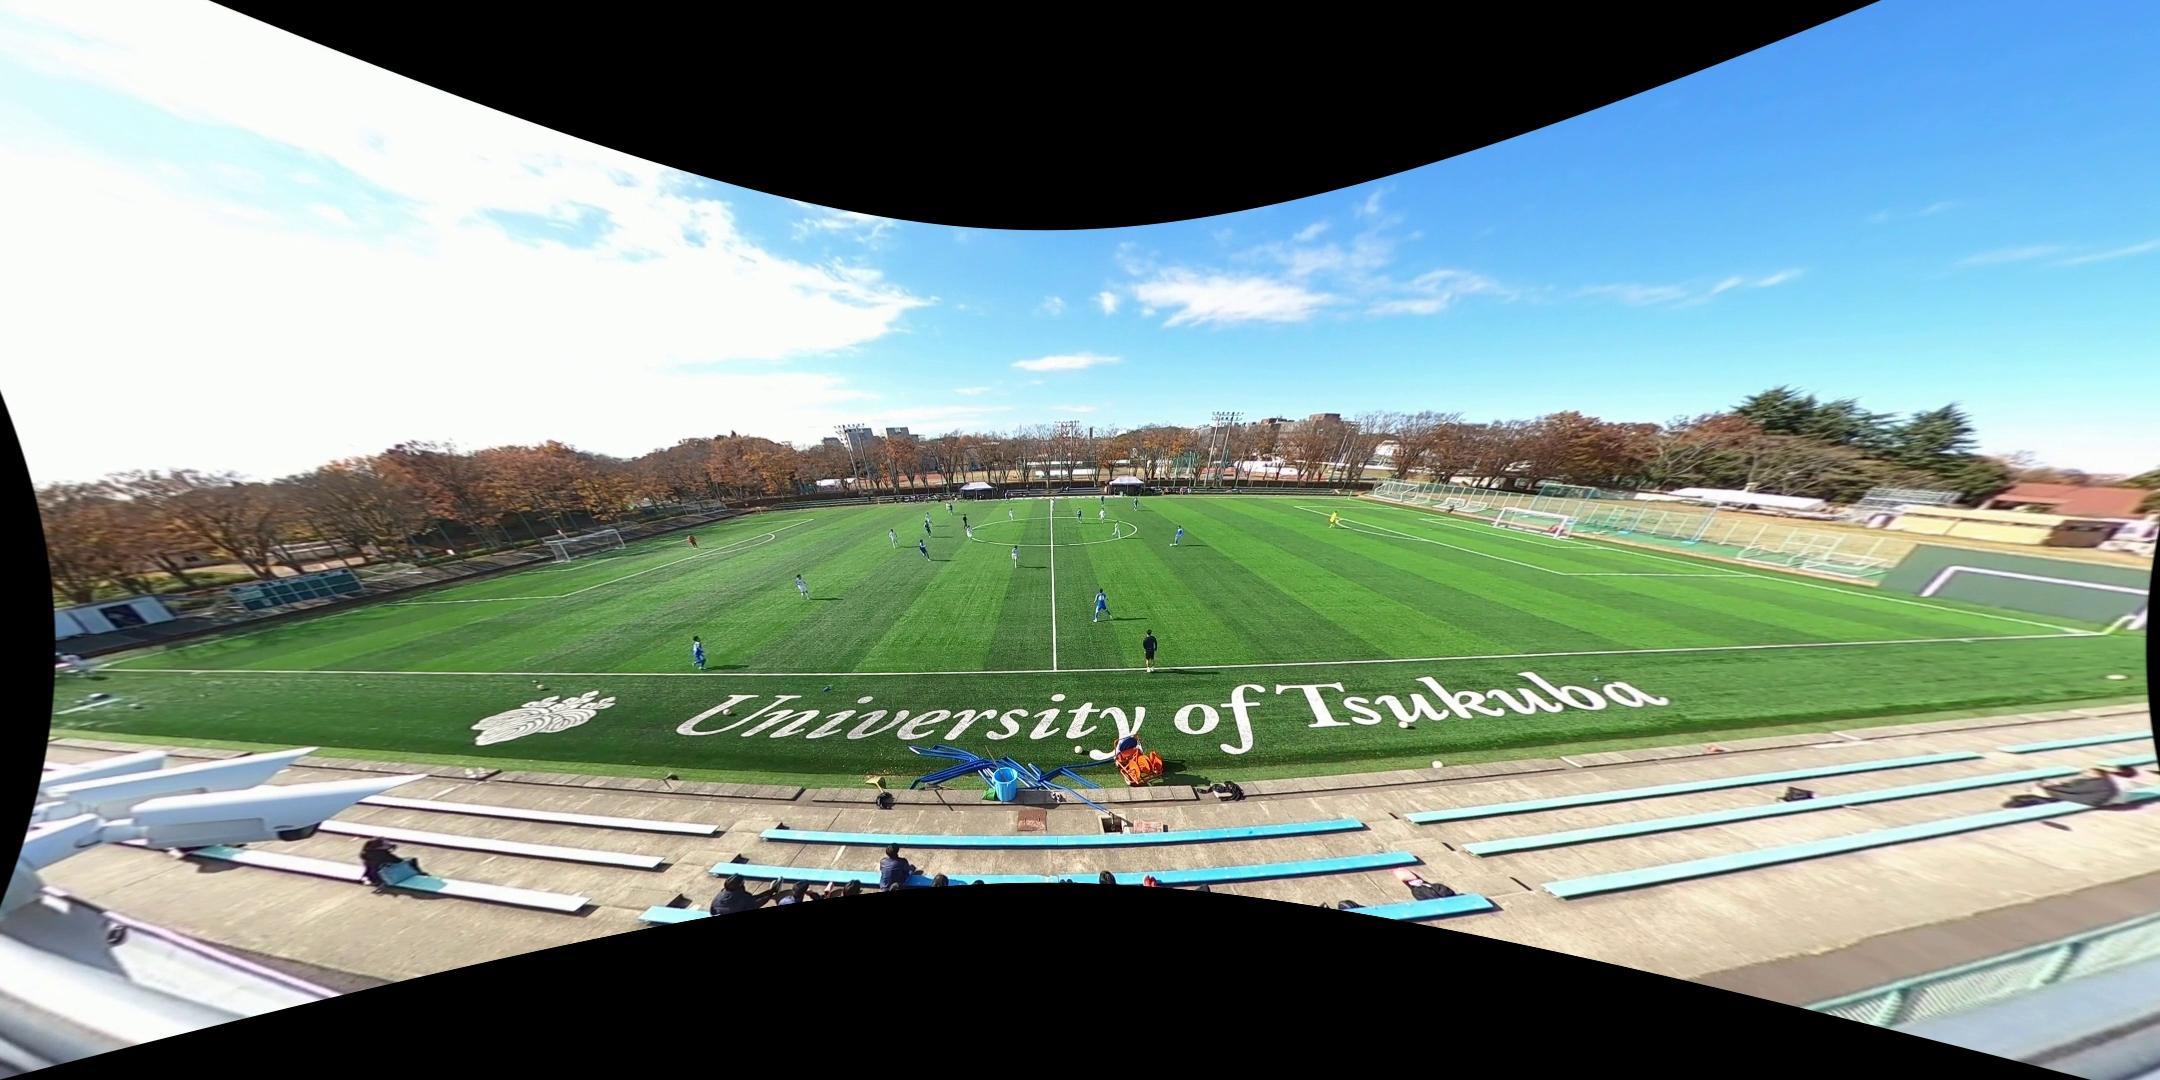person: (1143, 628, 1160, 674), (690, 634, 709, 670), (1093, 588, 1113, 622), (796, 574, 811, 601), (920, 538, 933, 562), (1172, 525, 1185, 548), (888, 528, 899, 549), (687, 532, 699, 551), (1011, 545, 1020, 570), (1112, 520, 1123, 539), (924, 521, 934, 540), (1329, 510, 1340, 527), (961, 514, 971, 532), (924, 512, 935, 528), (965, 524, 974, 543), (1098, 507, 1107, 524), (1076, 507, 1084, 524), (1132, 496, 1140, 510), (1048, 498, 1056, 512), (1008, 508, 1015, 522), (948, 503, 955, 517), (945, 502, 952, 515), (1005, 489, 1011, 503), (1100, 494, 1106, 507)
sports ball: (1430, 756, 1447, 771), (1396, 719, 1410, 732), (1073, 742, 1085, 754), (722, 707, 734, 717), (536, 683, 547, 692), (1169, 542, 1174, 548)
